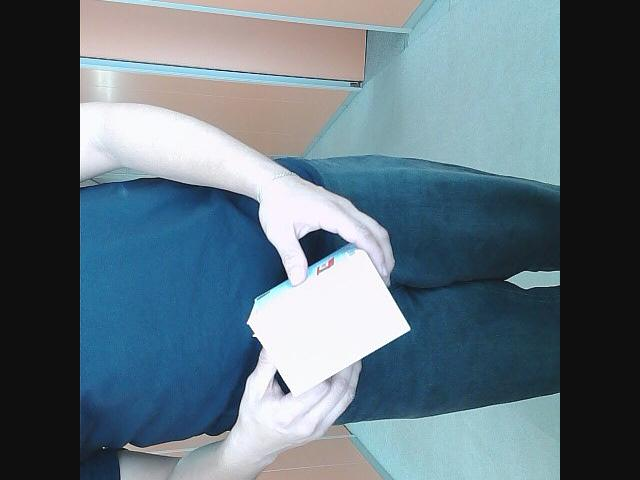Blind_box: (248, 236, 410, 404)
